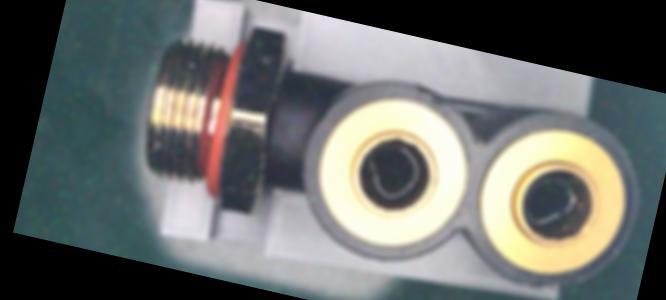bump: (404, 84, 459, 112), (528, 271, 571, 292)
joint line: (267, 126, 307, 142)
off-centered: (356, 136, 429, 206), (516, 167, 586, 232)
white mark: (274, 138, 294, 155)
